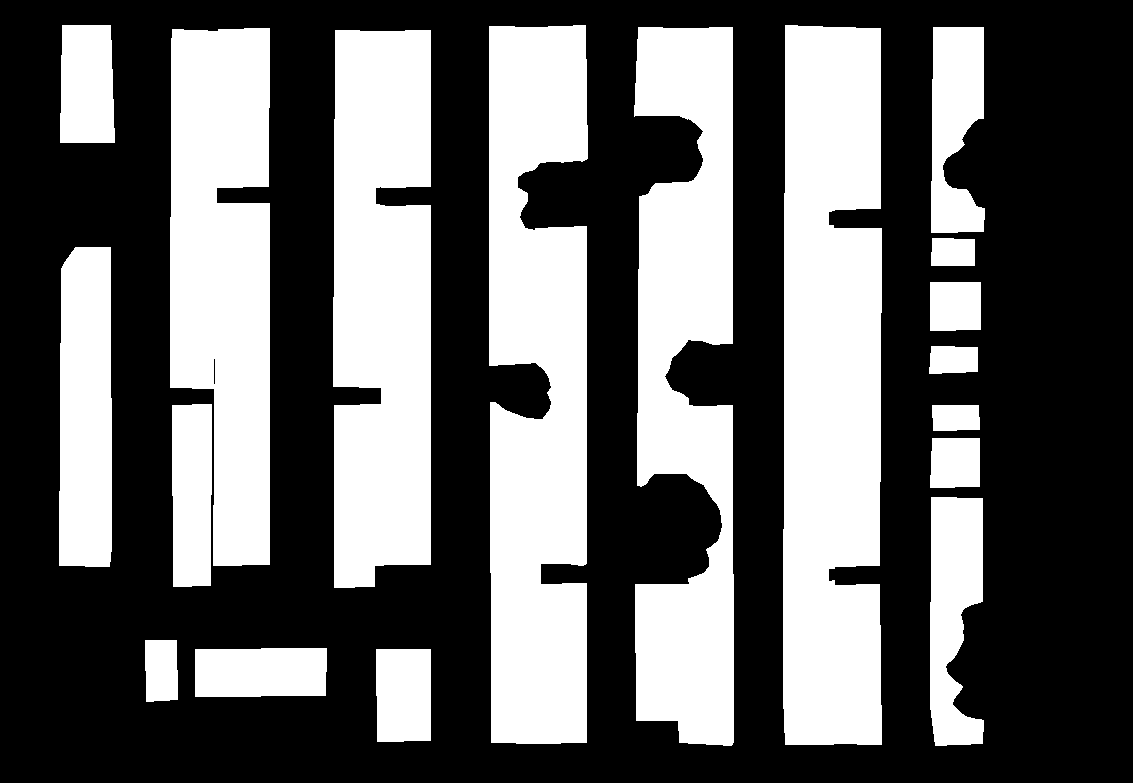parkingspot: (783, 25, 835, 744), (213, 203, 269, 565), (678, 405, 733, 745), (333, 30, 384, 387), (380, 205, 430, 564), (489, 26, 541, 365), (170, 29, 219, 388), (535, 226, 586, 565), (830, 228, 881, 566), (490, 402, 540, 743), (59, 247, 111, 566), (637, 182, 689, 486), (684, 27, 732, 344), (930, 497, 983, 745), (931, 27, 984, 232), (334, 404, 384, 587), (831, 27, 880, 209), (217, 28, 269, 187), (535, 583, 586, 743), (379, 30, 430, 187), (831, 584, 881, 744), (535, 25, 587, 163), (172, 404, 211, 586), (635, 584, 687, 720), (60, 25, 114, 142), (195, 648, 326, 696), (376, 649, 430, 741), (634, 27, 687, 119), (930, 438, 979, 487), (930, 282, 980, 330), (145, 640, 177, 701), (929, 346, 977, 373), (932, 405, 979, 430), (931, 238, 974, 265)
